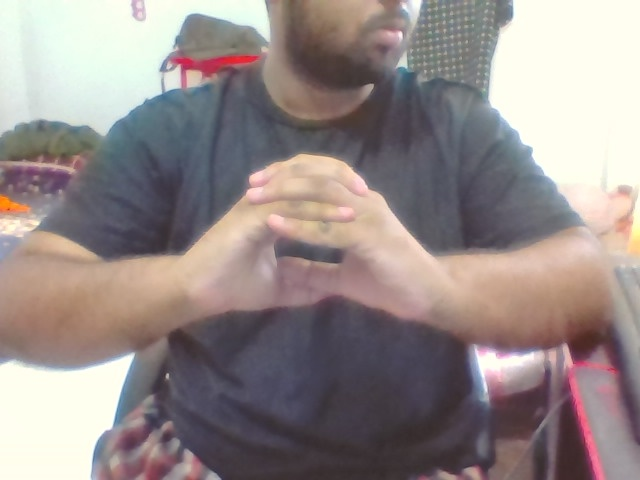O: (213, 146, 424, 324)
